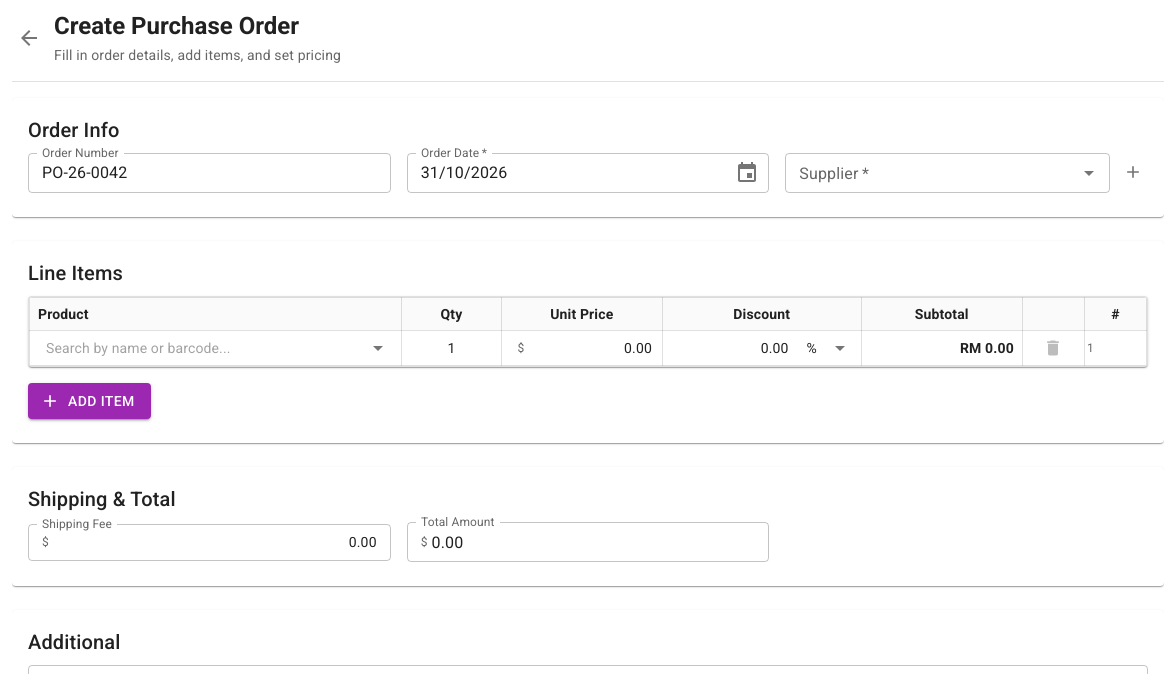
CreatePurchaseOrderPage › recalculates row total to 0.00 when quantity is set to 0
Press the mouse on the dropdown labelled "Supplier *": (931, 173) 791,159 -> 1071,187
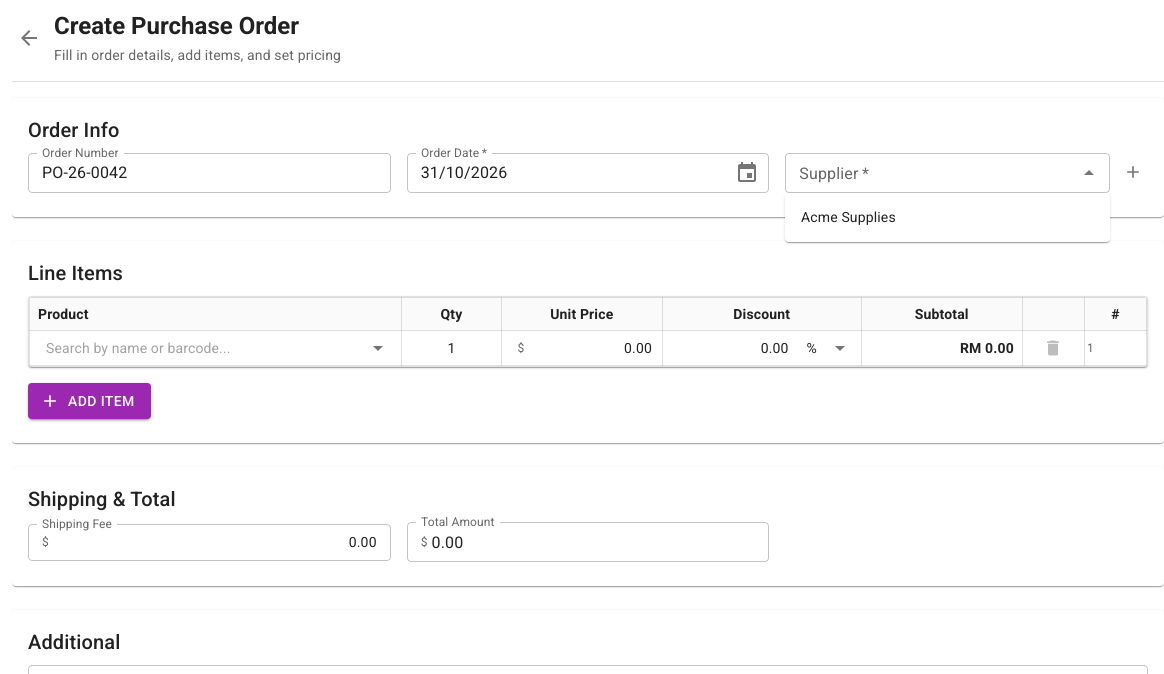
Click the option "Acme Supplies": (848, 217) 801,209 -> 896,225
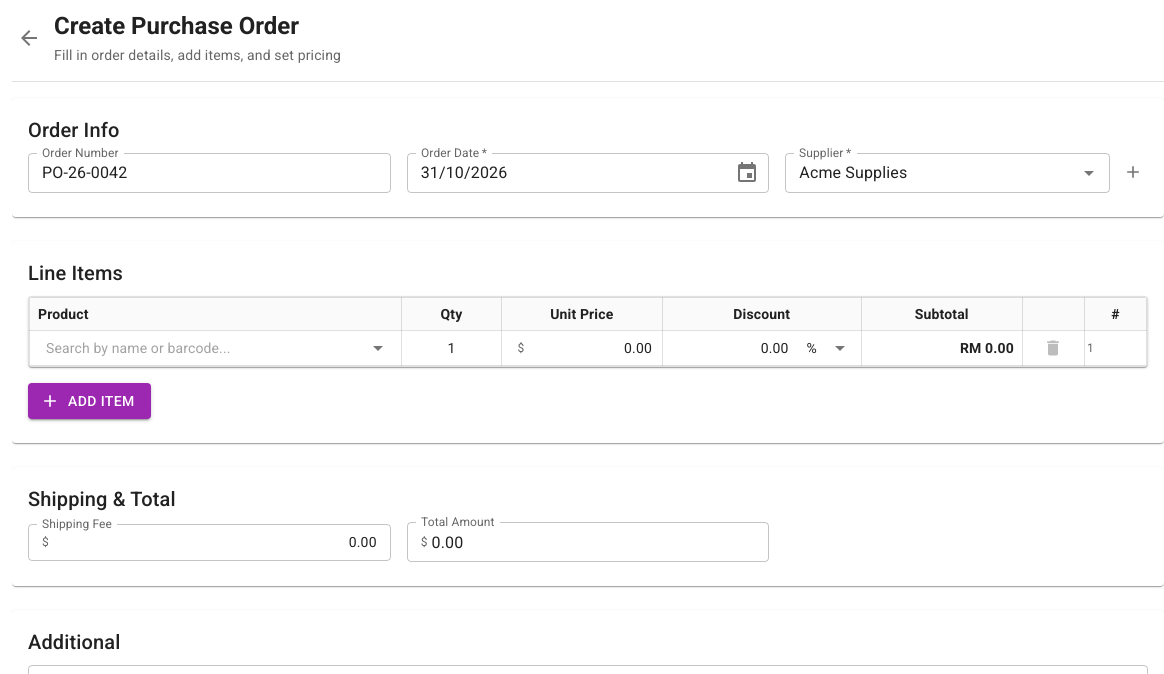
Press the mouse on the dropdown with placeholder "Search by name or barcode...": (199, 348) 38,336 -> 360,360
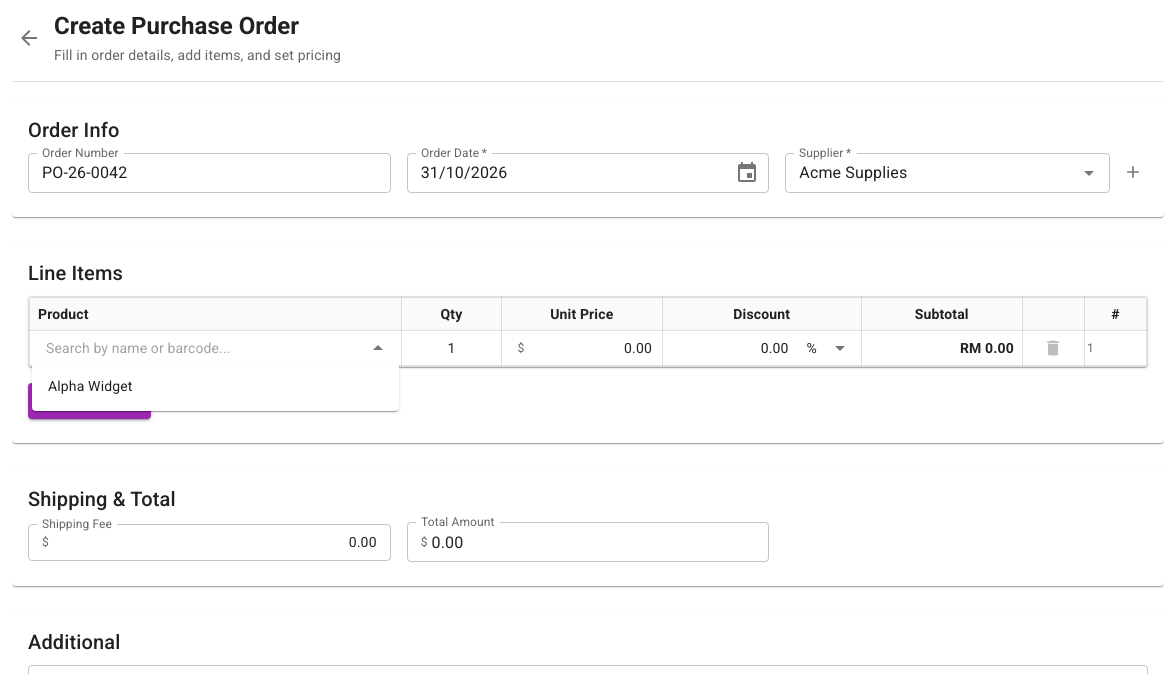
Click the option "Alpha Widget": (90, 386) 48,378 -> 133,394
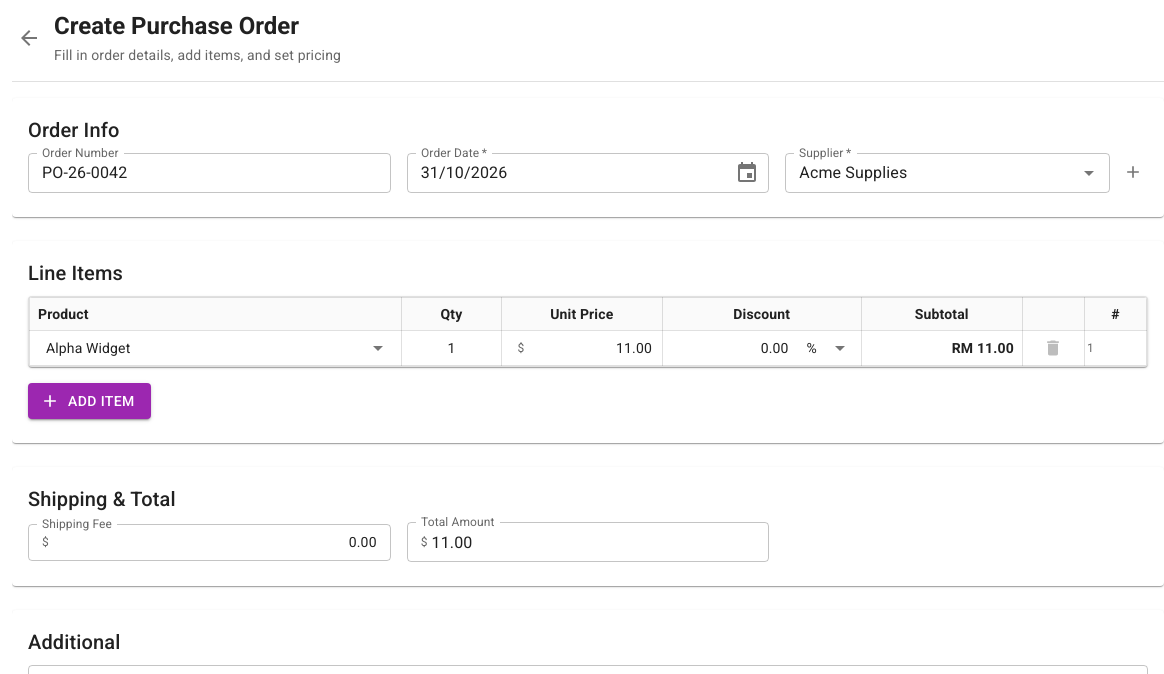
Expected: the row showing "1" is shown, 30,330 -> 1146,365
Result: the text "RM 11.00" is shown at 952,340 -> 1014,356
Replace the text in the 1st field showing "1" with "0": (451, 348) 404,336 -> 499,360
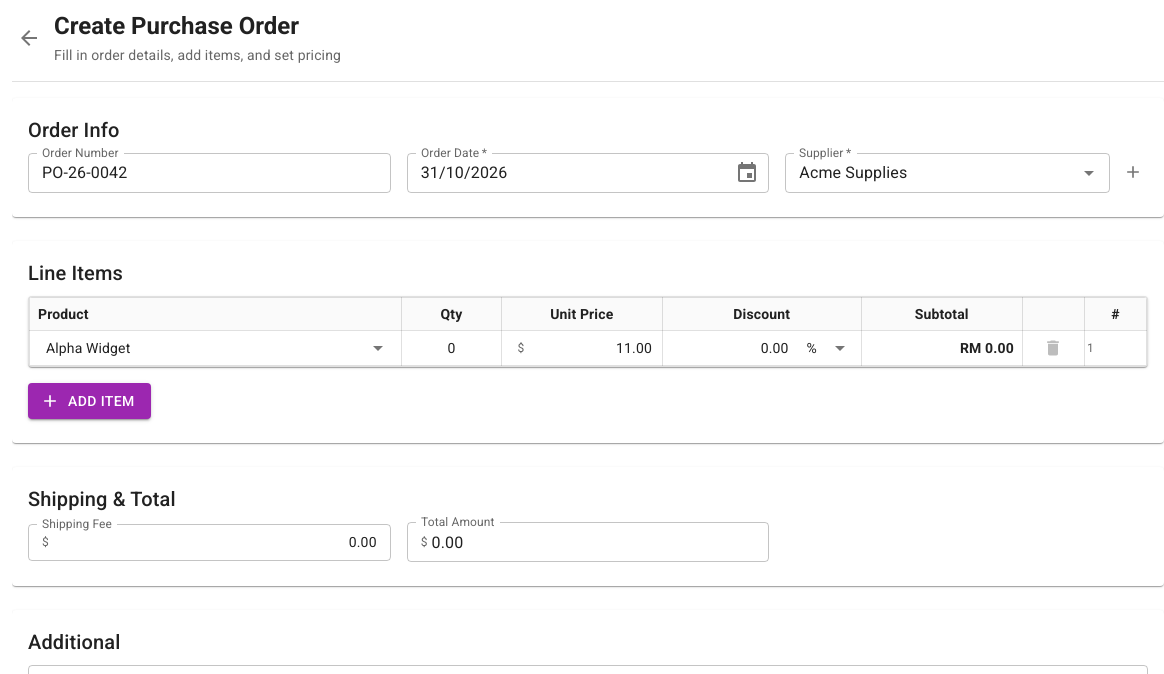
Result: the text "RM 0.00" is shown at 960,340 -> 1014,356
Result: the text "RM 11.00" is gone
